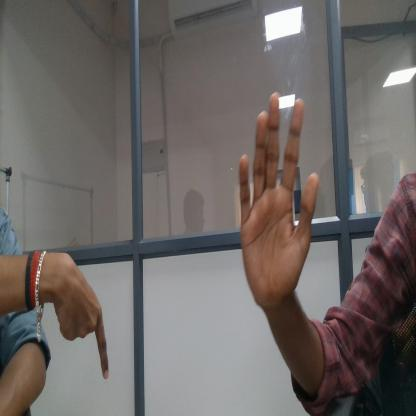Down: (48, 235, 121, 392)
Stop: (226, 75, 324, 303)
